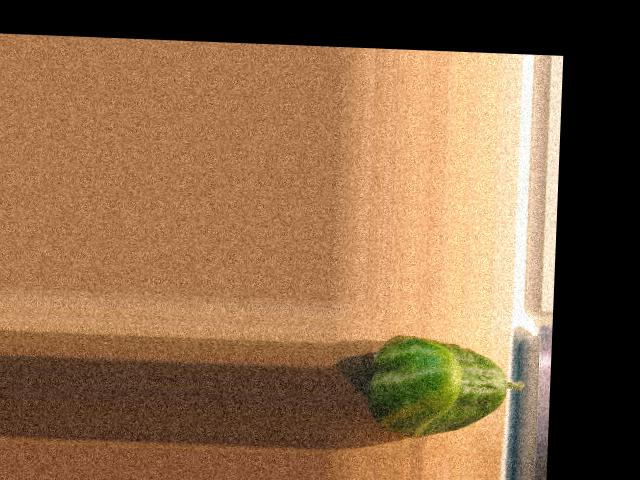cucumber: (366, 332, 526, 440)
